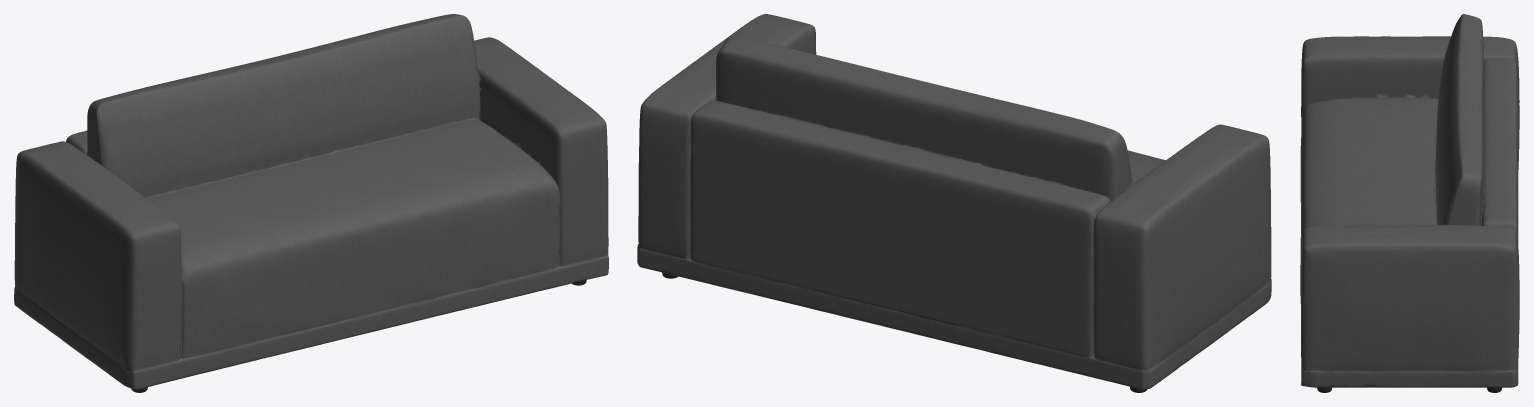
The picture shows the model from 3 angles, left to right: view 1: azimuth 30°, elevation 25°; view 2: azimuth 150°, elevation 25°; view 3: azimuth 270°, elevation 25°; orthographic projection. The views are drawn at different scales.
Parts seen in each view (by area): view 1: tripo_node_1558b81f-7e04-471c-9ba1-6b5583eb2972; view 2: tripo_node_1558b81f-7e04-471c-9ba1-6b5583eb2972; view 3: tripo_node_1558b81f-7e04-471c-9ba1-6b5583eb2972.
Boxes of the visible parts, <box> form: tripo_node_1558b81f-7e04-471c-9ba1-6b5583eb2972: <box>14,14,608,392</box>; tripo_node_1558b81f-7e04-471c-9ba1-6b5583eb2972: <box>637,14,1271,392</box>; tripo_node_1558b81f-7e04-471c-9ba1-6b5583eb2972: <box>1300,14,1519,392</box>.
Bounding box in the file's own units: 1.85 × 0.81 × 0.8.
2 materials, 2 textured.
